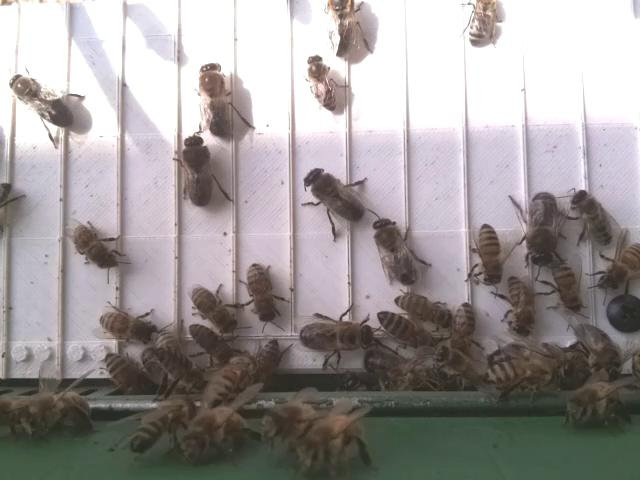Drone: (6, 70, 76, 132), (302, 164, 370, 226), (370, 214, 423, 291), (297, 314, 379, 356), (196, 57, 236, 142), (522, 187, 561, 270), (180, 132, 215, 211)
Worker: (68, 218, 119, 274), (242, 258, 279, 325), (97, 306, 162, 344), (474, 218, 505, 295), (190, 284, 240, 331), (549, 255, 588, 315), (303, 52, 338, 116), (393, 290, 453, 327), (377, 308, 428, 351), (505, 273, 536, 341), (448, 299, 482, 361), (596, 242, 640, 288)
